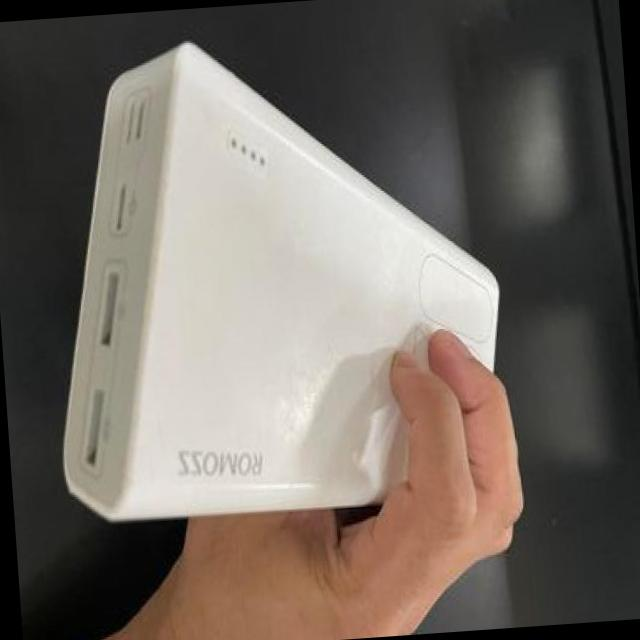portable-charger: (24, 10, 536, 563)
